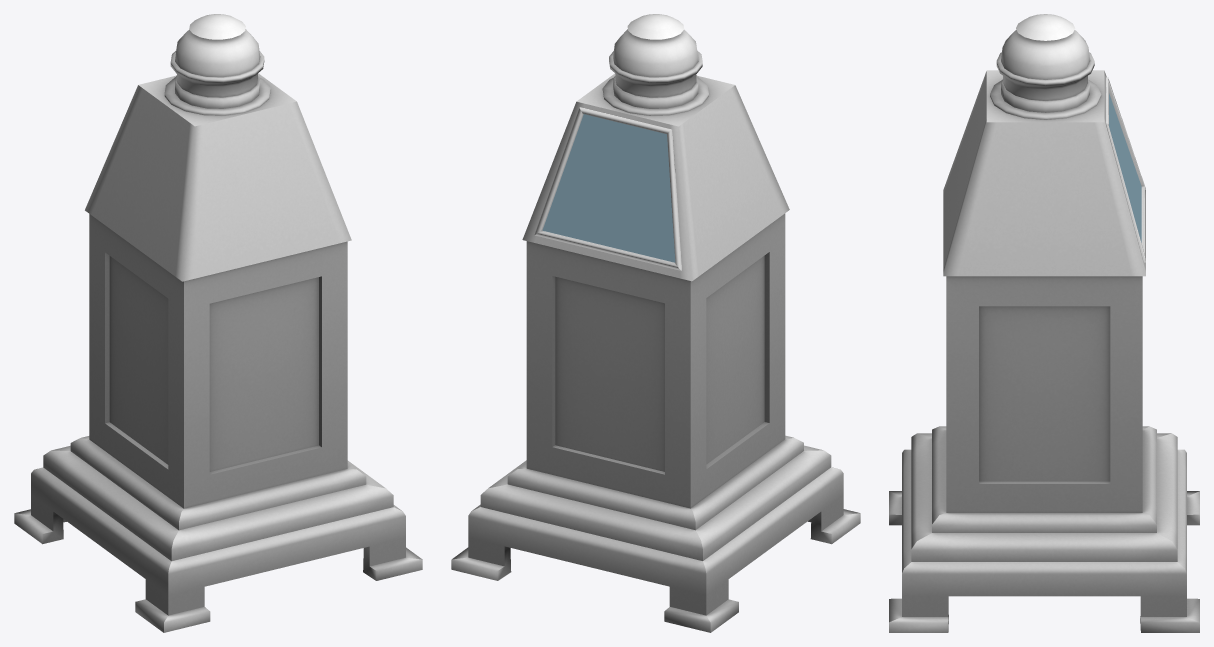
File: WheelPost_Mesh.fbx
3 renders of one model, left to right at view 1: azimuth 30°, elevation 25°; view 2: azimuth 150°, elevation 25°; view 3: azimuth 270°, elevation 25°, orthographic. The views are drawn at different scales.
Visible parts, largest first — view 1: WheelPost; view 2: WheelPost; view 3: WheelPost.
Boxes of the visible parts, <box> form: WheelPost: <box>14,14,422,632</box>; WheelPost: <box>451,14,860,632</box>; WheelPost: <box>889,14,1199,632</box>.
Bounding box in the file's own units: 52.98 × 103 × 53.03.
